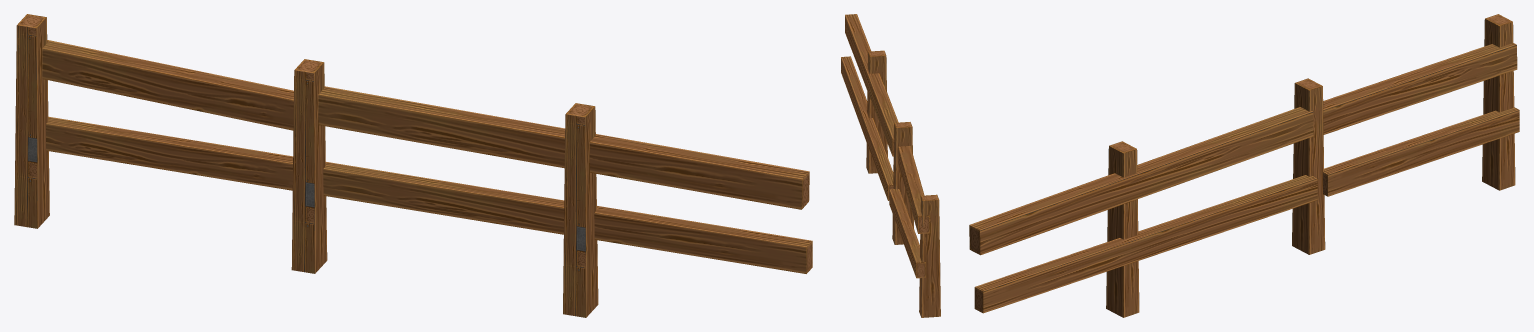
The picture shows the model from 3 angles, left to right: view 1: azimuth 30°, elevation 25°; view 2: azimuth 150°, elevation 25°; view 3: azimuth 270°, elevation 25°; orthographic projection. The views are drawn at different scales.
Parts seen in each view (by area): view 1: Cube.2041; view 2: Cube.2041; view 3: Cube.2041.
Boxes of the visible parts, x1=… form: Cube.2041: x1=14, y1=14, x2=812, y2=317; Cube.2041: x1=841, y1=14, x2=940, y2=317; Cube.2041: x1=969, y1=14, x2=1519, y2=317.
Bounding box in the file's own units: 335 × 132 × 402.
1 material, 1 textured.
